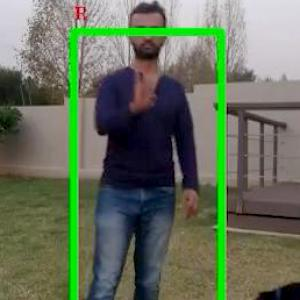takeoff-hand: (128, 65, 162, 113)
